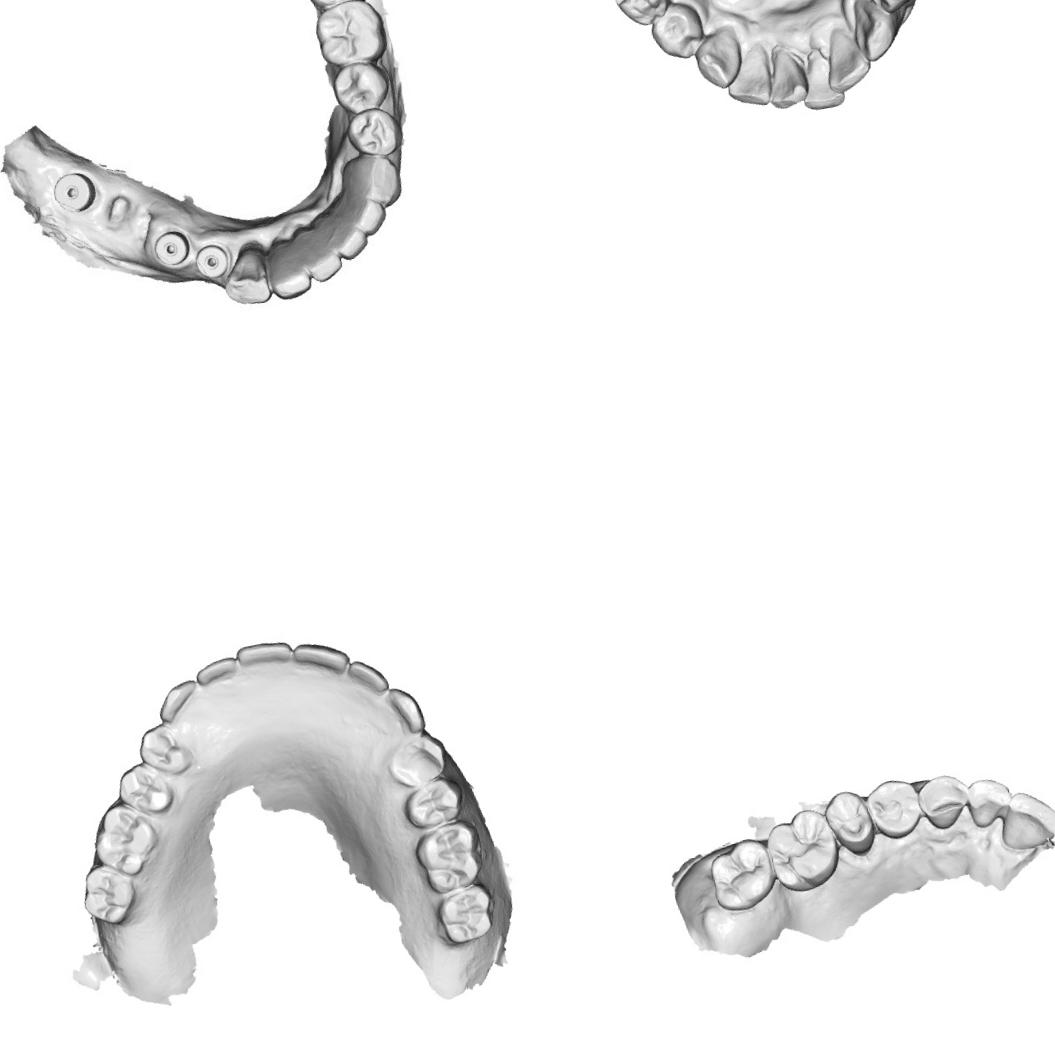canine: (688, 21, 748, 94), (912, 767, 976, 834), (216, 241, 276, 310), (340, 146, 404, 208), (844, 0, 903, 65), (150, 674, 208, 722), (381, 678, 427, 736)
implant: (47, 162, 101, 220), (147, 222, 195, 274), (188, 241, 232, 284)
incisor: (991, 782, 1055, 856), (816, 22, 875, 96), (792, 42, 849, 114), (718, 43, 776, 113), (758, 40, 811, 112), (285, 631, 348, 690), (262, 234, 316, 300), (960, 772, 1018, 832), (293, 222, 346, 284), (330, 185, 390, 236), (234, 632, 294, 682), (345, 647, 396, 704), (318, 208, 370, 260), (190, 647, 239, 696)
molar: (758, 802, 848, 898), (84, 795, 166, 882), (408, 815, 488, 896), (704, 833, 780, 916), (428, 880, 504, 950), (310, 0, 386, 68), (76, 857, 141, 930)
premolar: (115, 756, 186, 826), (818, 784, 880, 861), (860, 773, 926, 845), (643, 0, 710, 66), (382, 730, 450, 792), (398, 774, 466, 834), (132, 718, 196, 780), (331, 56, 392, 114), (348, 104, 408, 157), (606, 0, 678, 33), (857, 0, 926, 14)
